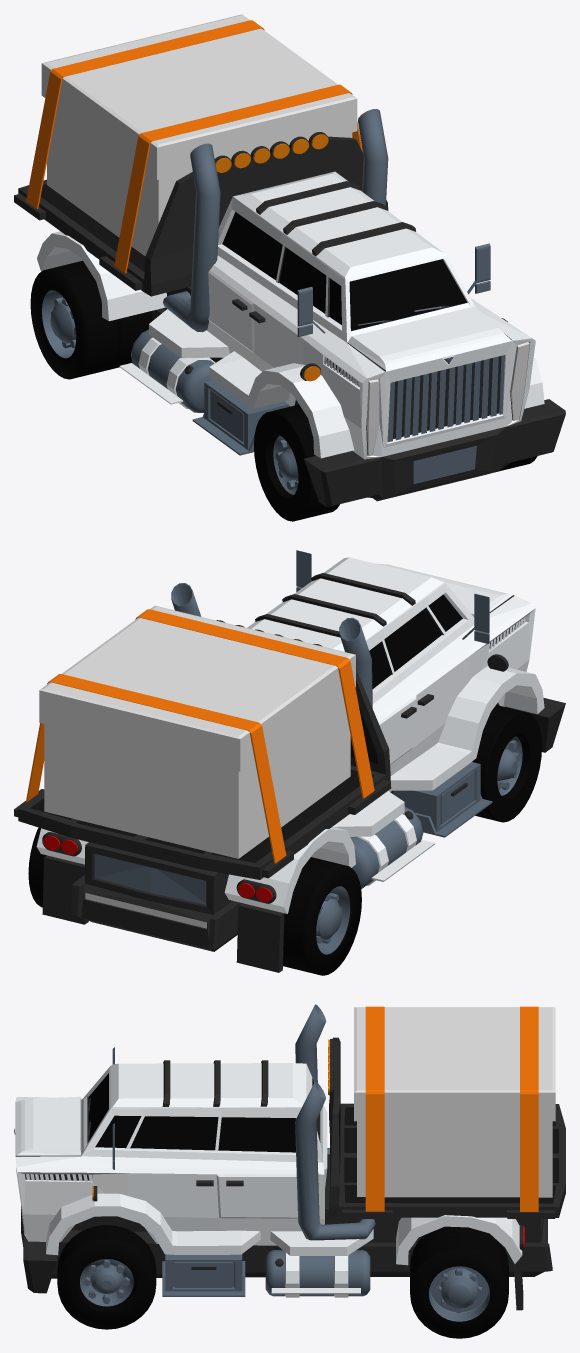
Rendered from FlatbedLowPoly.fbx.
The picture shows the model from 3 angles, top to bottom: view 1: azimuth 30°, elevation 25°; view 2: azimuth 150°, elevation 25°; view 3: azimuth 270°, elevation 25°; orthographic projection. The views are drawn at different scales.
Parts seen in each view (by area): view 1: TruckBody, Cargo, Flatbed, RearRight, Exhaust, FrontRight, Strap, StrapR, LightLens, RearRightDummy; view 2: TruckBody, Cargo, Flatbed, RearRight, FrontRight, StrapR, Strap, RightRearMudflap, Exhaust, LeftRearMudflap, RearLeft, LightLens; view 3: TruckBody, Cargo, Flatbed, FrontLeft, RearLeft, Exhaust, Strap, StrapR, RearLeftDummy, LeftRearMudflap.
Part boxes in pixels (x1=…): TruckBody: x1=37, y1=171, x2=565, y2=507; Cargo: x1=41, y1=14, x2=357, y2=255; Flatbed: x1=14, y1=132, x2=388, y2=296; RearRight: x1=30, y1=261, x2=118, y2=379; Exhaust: x1=163, y1=109, x2=388, y2=332; FrontRight: x1=254, y1=404, x2=339, y2=521; Strap: x1=114, y1=84, x2=362, y2=273; StrapR: x1=26, y1=20, x2=264, y2=208; LightLens: x1=367, y1=342, x2=529, y2=456; RearRightDummy: x1=80, y1=260, x2=151, y2=370; TruckBody: x1=36, y1=550, x2=565, y2=951; Cargo: x1=39, y1=605, x2=355, y2=858; Flatbed: x1=14, y1=620, x2=391, y2=879; RearRight: x1=283, y1=857, x2=361, y2=975; FrontRight: x1=472, y1=705, x2=541, y2=822; StrapR: x1=25, y1=674, x2=286, y2=863; Strap: x1=135, y1=609, x2=374, y2=798; RightRearMudflap: x1=236, y1=903, x2=284, y2=972; Exhaust: x1=171, y1=583, x2=372, y2=708; LeftRearMudflap: x1=42, y1=855, x2=88, y2=924; RearLeft: x1=28, y1=827, x2=46, y2=907; LightLens: x1=85, y1=893, x2=206, y2=928; TruckBody: x1=14, y1=1047, x2=552, y2=1297; Cargo: x1=354, y1=1007, x2=555, y2=1197; Flatbed: x1=328, y1=1037, x2=565, y2=1218; FrontLeft: x1=57, y1=1225, x2=156, y2=1329; RearLeft: x1=410, y1=1235, x2=508, y2=1338; Exhaust: x1=295, y1=1004, x2=375, y2=1240; Strap: x1=365, y1=1006, x2=384, y2=1211; StrapR: x1=520, y1=1006, x2=538, y2=1211; RearLeftDummy: x1=410, y1=1226, x2=508, y2=1279; LeftRearMudflap: x1=513, y1=1257, x2=523, y2=1310.
Bounding box in the file's own units: 579 × 547 × 1128.
